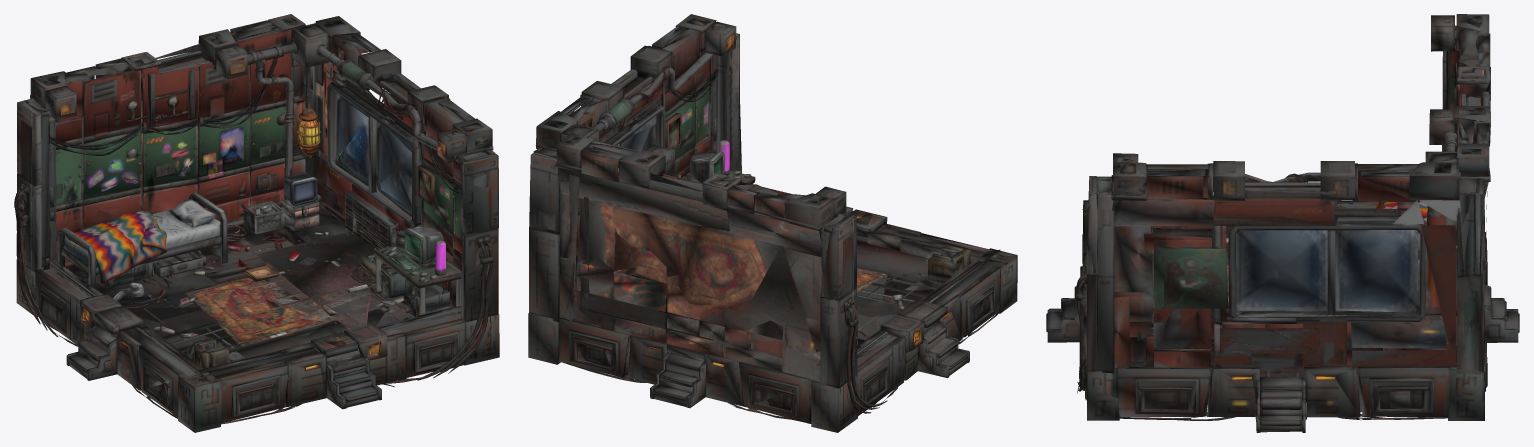
The model's file is jacki_room.glb.
3 views of the same model, side by side, from view 1: azimuth 30°, elevation 25°; view 2: azimuth 150°, elevation 25°; view 3: azimuth 270°, elevation 25° (orthographic). The views are drawn at different scales.
Bounding box in the file's own units: 0.9595 × 0.5552 × 0.9536.
Materials: 1 (1 with a texture image).
